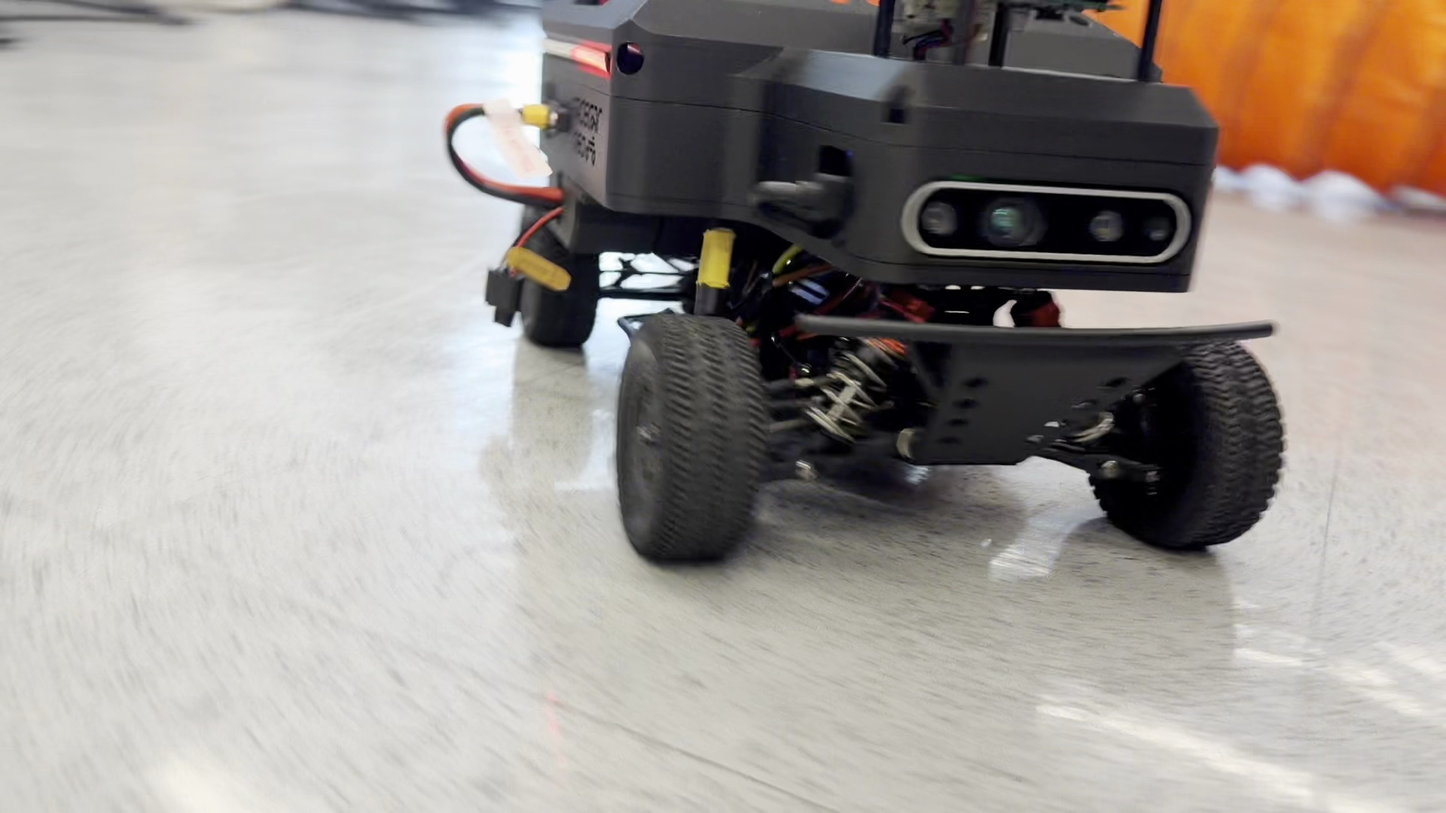racecar: (465, 0, 1291, 581)
